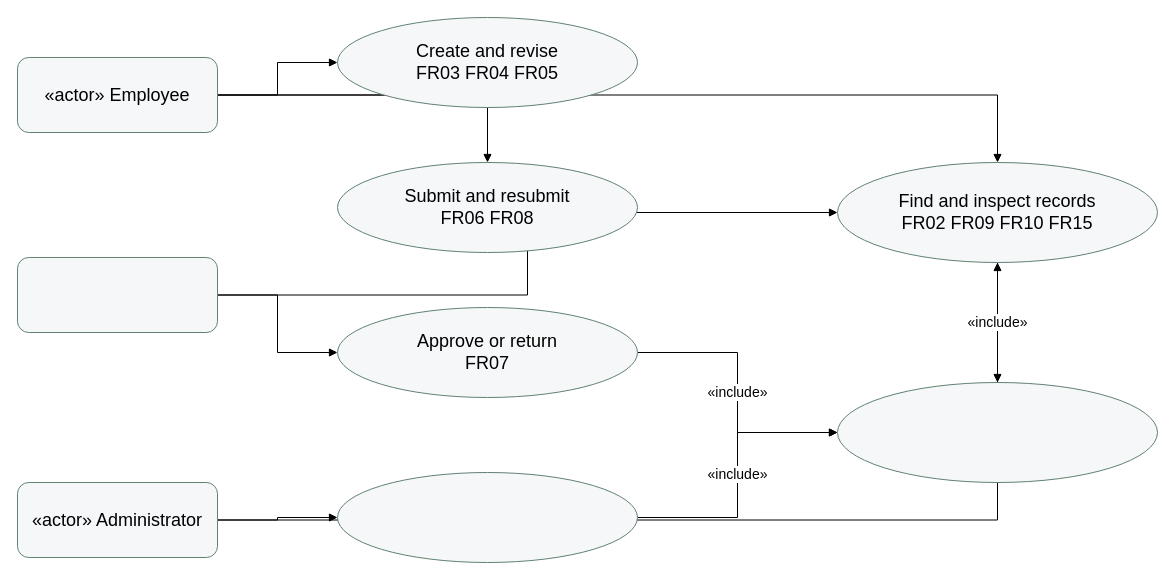
Image size: 1175x580. Some labels were removed from this diagram. Here are the shapes that lost their labels. From the top down, the centre of each, then its label:
the point at 117,294: «actor» Reviewer
the point at 997,432: Check access policy FR01 FR02
the point at 487,517: Archive and manage users FR11 FR14
